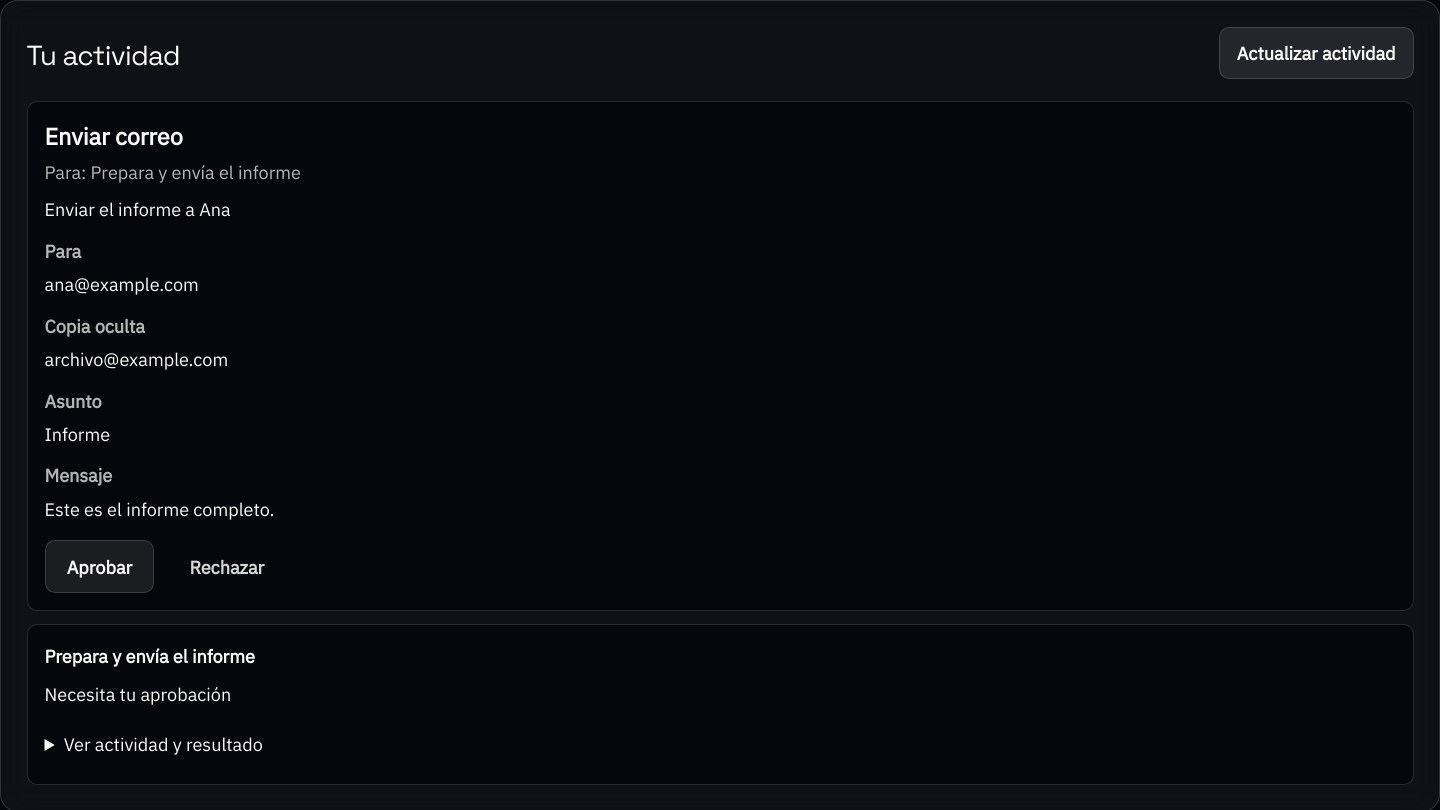
Test: Actividad en Inicio › si falla el sondeo conserva las tarjetas y bloquea decisiones hasta refrescar
expect the button with aria-label "Aprobar: Enviar correo" is shown: met, box [44, 540, 154, 594]
Click the button "Actualizar actividad": (1316, 53) [1219, 26, 1414, 80]
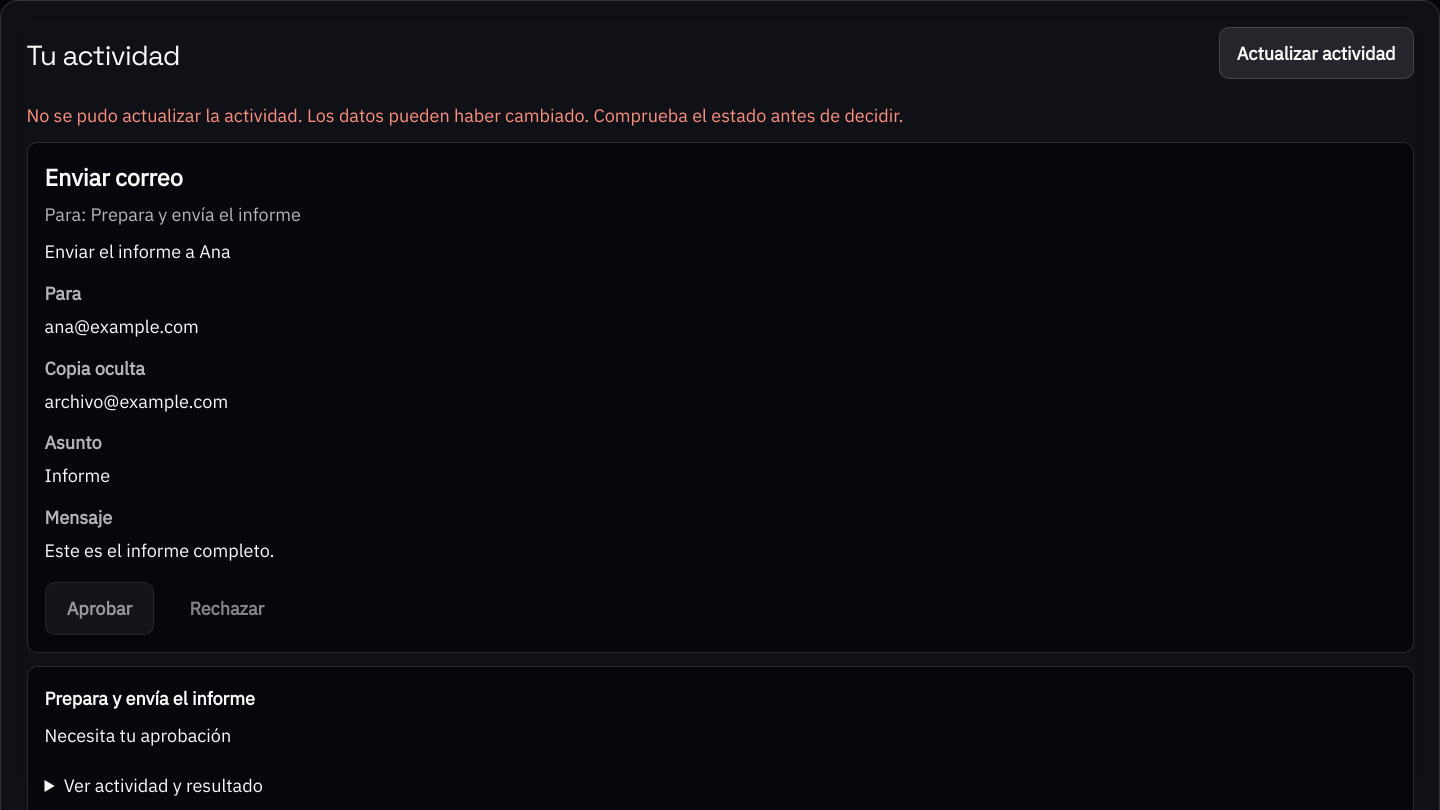
expect the text "No se pudo actualizar la actividad" is shown: met, box [26, 103, 903, 127]
expect the button with aria-label "Aprobar: Enviar correo" is disabled: met, box [44, 582, 154, 635]
Click the button "Actualizar actividad": (1316, 53) [1219, 26, 1414, 80]
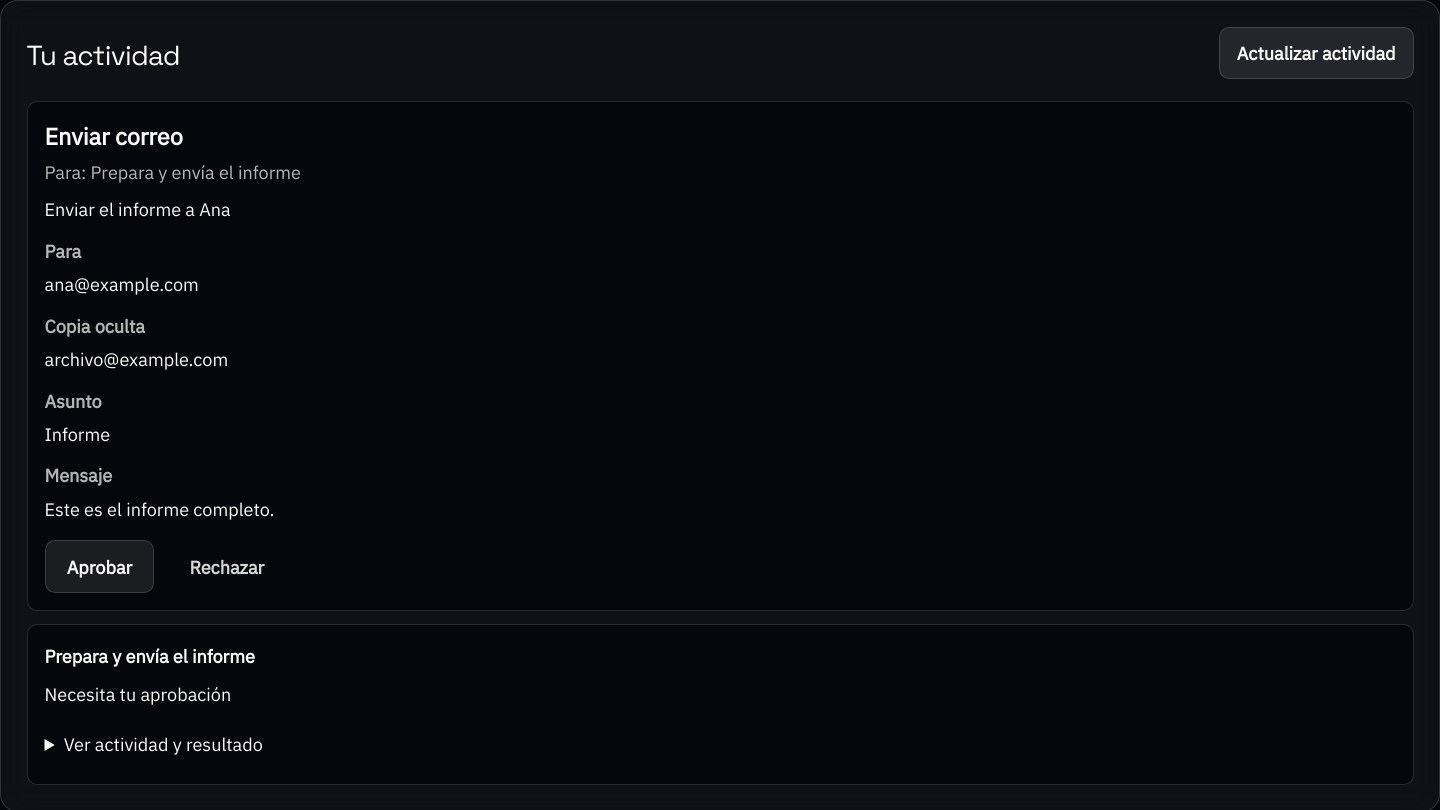
expect the button with aria-label "Aprobar: Enviar correo" is enabled: met, box [44, 540, 154, 594]
